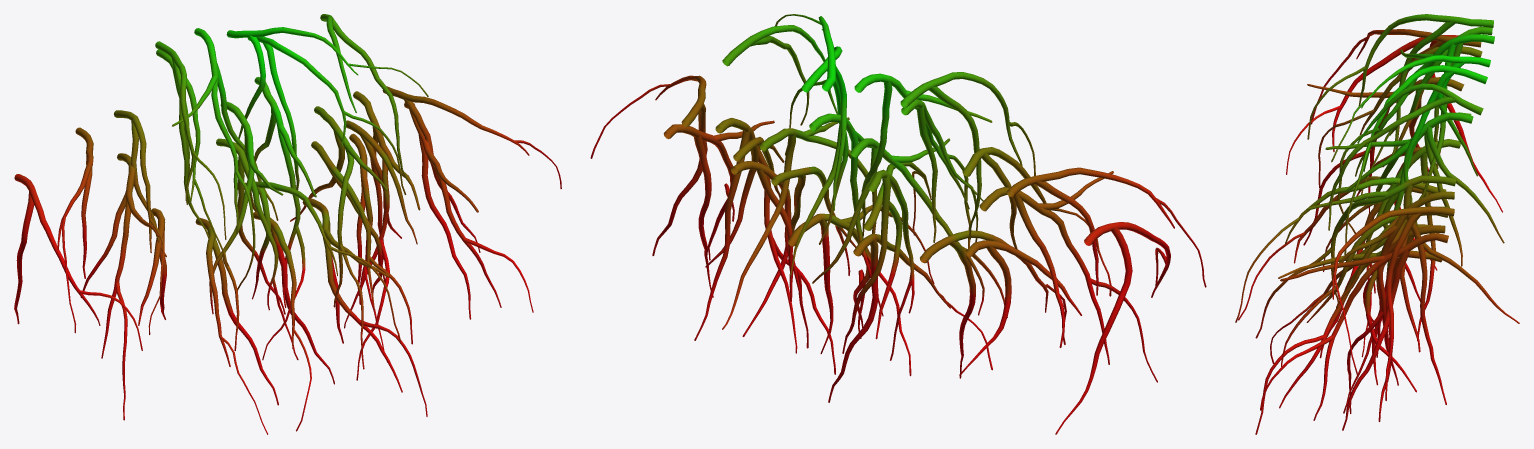
File: DroppingPlantVar14_LOD0.fbx
3 renders of one model, left to right at view 1: azimuth 30°, elevation 25°; view 2: azimuth 150°, elevation 25°; view 3: azimuth 270°, elevation 25°, orthographic. The views are drawn at different scales.
Parts seen in each view (by area): view 1: _3hvh_Var14_LOD0; view 2: _3hvh_Var14_LOD0; view 3: _3hvh_Var14_LOD0.
Part boxes in pixels (bbox=[...]): _3hvh_Var14_LOD0: bbox=[14, 14, 561, 434]; _3hvh_Var14_LOD0: bbox=[590, 14, 1206, 434]; _3hvh_Var14_LOD0: bbox=[1235, 14, 1519, 434].
Size of the model in its own units: 105 by 67.95 by 49.54.
